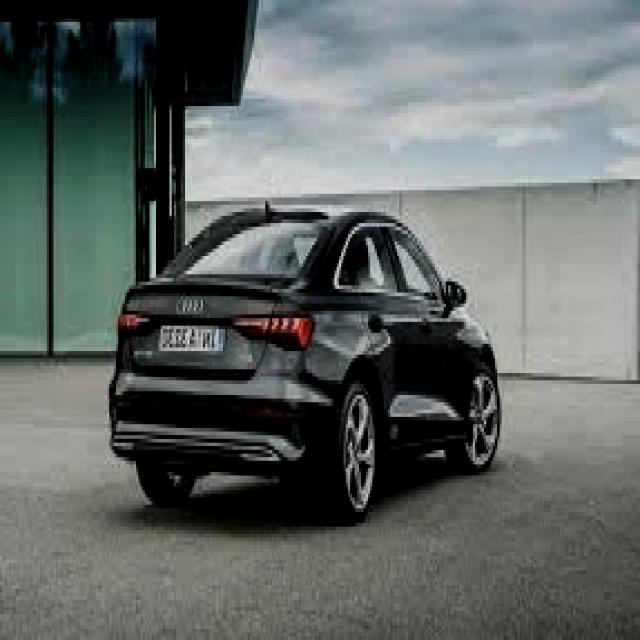black: (93, 196, 503, 522)
